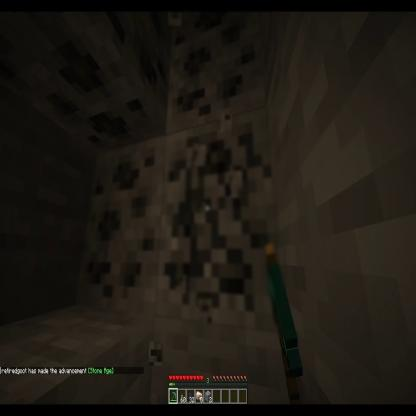coal ore: (155, 99, 286, 338), (77, 138, 165, 317), (164, 6, 274, 136)
